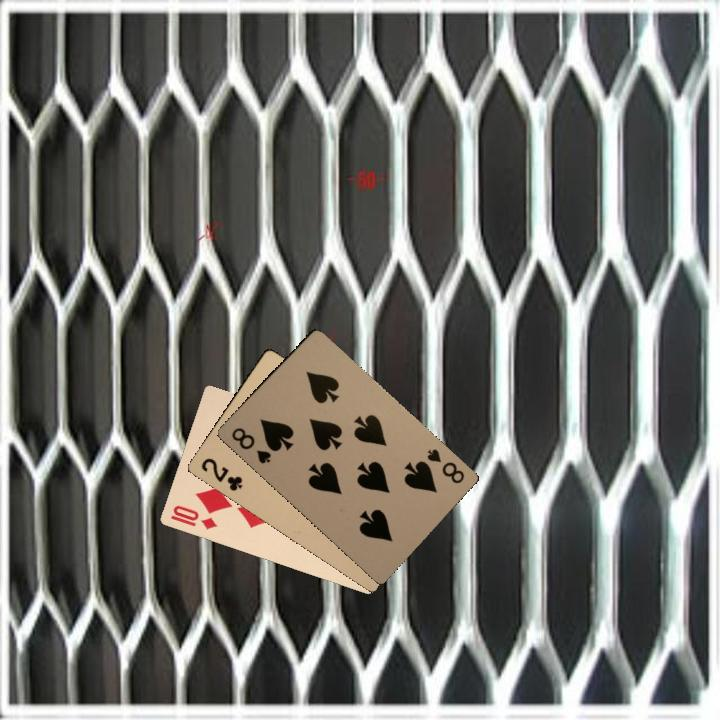10d: (166, 501, 220, 532)
2c: (197, 454, 245, 494)
8s: (228, 423, 274, 467), (423, 445, 467, 486)
